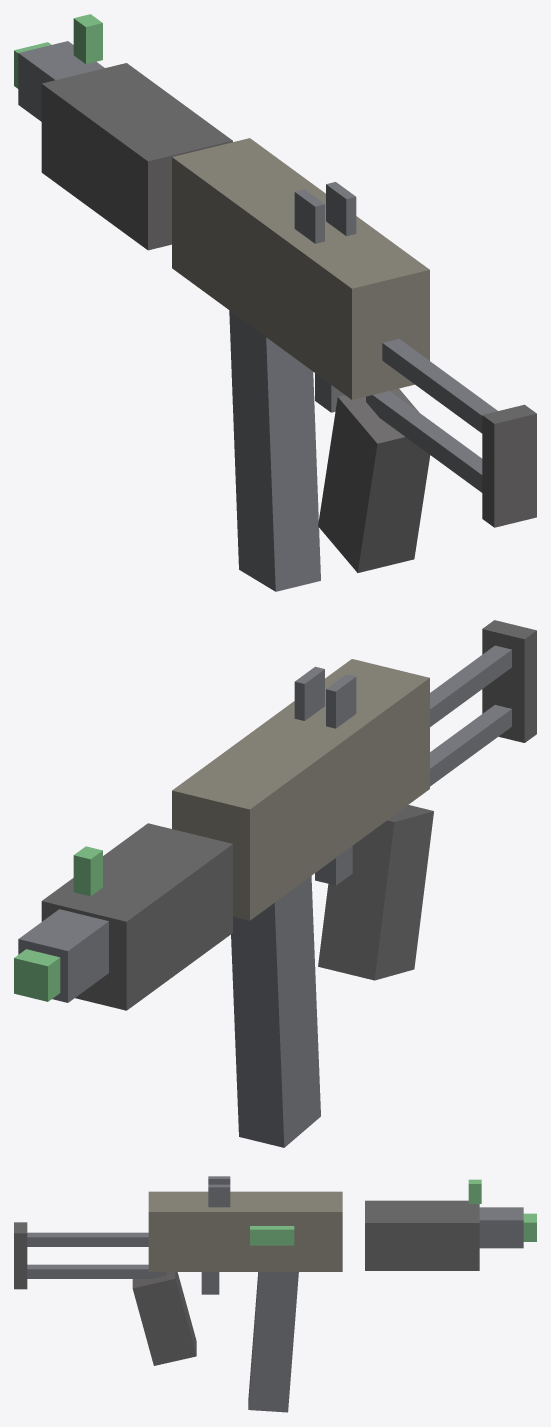
File: smg.glb
3 renders of one model, top to bottom at view 1: azimuth 30°, elevation 25°; view 2: azimuth 150°, elevation 25°; view 3: azimuth 270°, elevation 25°, orthographic. The views are drawn at different scales.
Parts seen in each view (by area): view 1: weapon.smg; view 2: weapon.smg; view 3: weapon.smg.
Part boxes in pixels (x1,y1,x2,y2): weapon.smg: (14, 14, 536, 591); weapon.smg: (14, 620, 536, 1147); weapon.smg: (14, 1176, 536, 1412).
Size of the model in its own units: 0.067 by 0.2809 by 0.5925.
